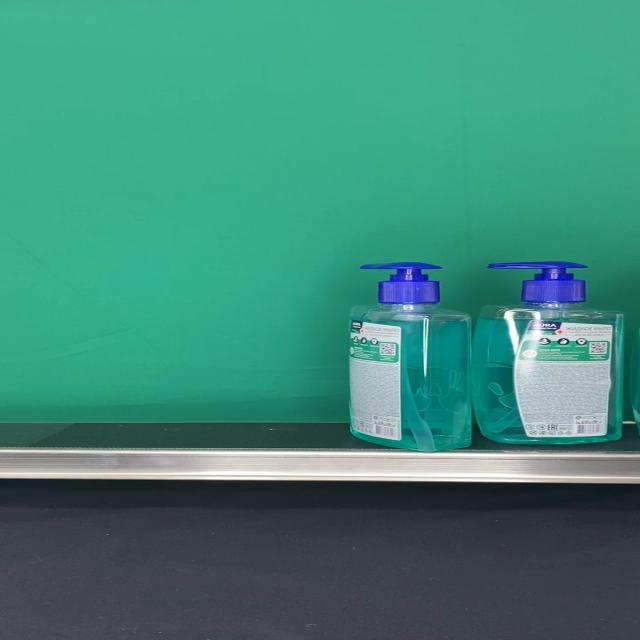Bottle: (474, 262, 624, 446), (346, 262, 472, 451)
Cap: (488, 262, 588, 304), (360, 262, 441, 304)
